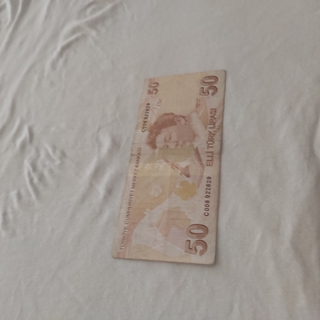50TLBack: (111, 69, 226, 266)
